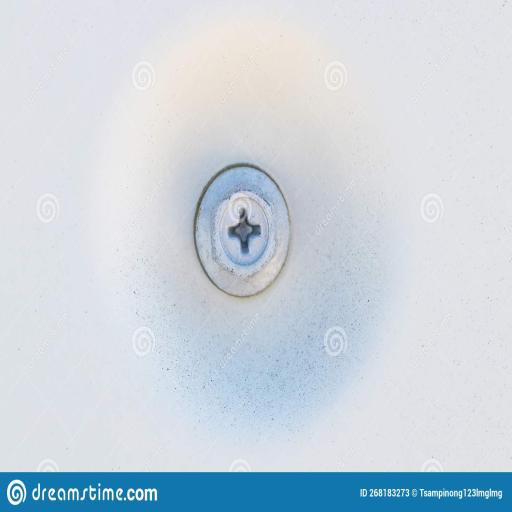Phillips: (190, 161, 294, 300)
